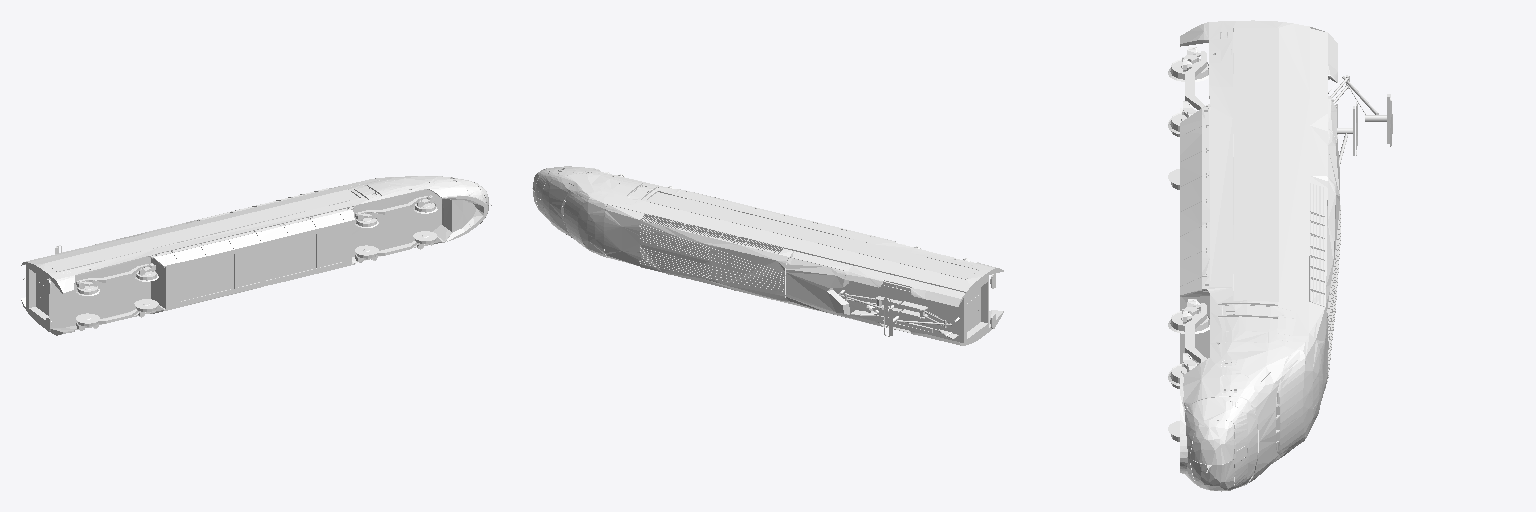
The robot description file, URDF, robot "train":
<robot name="train">
	<link name="_name">
		<visual>
			<origin rpy="0 0 0" xyz="0.0 0.0 -0.0628078" />
			<geometry>
				<mesh filename="train/model.obj" scale="1 1 1" />
			</geometry>
			<material name="texture">
				<color rgba="1.0 1.0 1.0 1.0" />
			</material>
		</visual>
		<collision>
			<geometry>
				<mesh filename="train/model_vhacd.obj" scale="1 1 1" />
			</geometry>
		<origin rpy="0 0 0" xyz="0.0 0.0 -0.0628078" /></collision>
		<inertial>
			<mass value="1.0" />
			<inertia ixx="1.0" ixy="0.0" ixz="0.0" iyy="1.0" iyz="0.0" izz="1.0" />
		</inertial>
	</link>
</robot>

--- What the picture shows (computed from the rendered views, not written in the file) ---
Views: 3 orthographic renders of the robot side by side, from view 1: azimuth 30°, elevation 25°; view 2: azimuth 150°, elevation 25°; view 3: azimuth 270°, elevation 25°.
Robot: train — 1 links, 0 joints (none); root link _name; default pose: all joints at 0.
Visible links, largest first — view 1: _name; view 2: _name; view 3: _name.
Link boxes in pixels (x1=…): _name: x1=21, y1=176, x2=491, y2=335; _name: x1=532, y1=166, x2=1003, y2=345; _name: x1=1168, y1=20, x2=1392, y2=491.
Bounding box of the posed robot: 0.9647 × 0.2314 × 0.1256 m (x, y, z).
Meshes: 1 distinct files referenced, 1 mesh visuals loaded (1 OBJ).